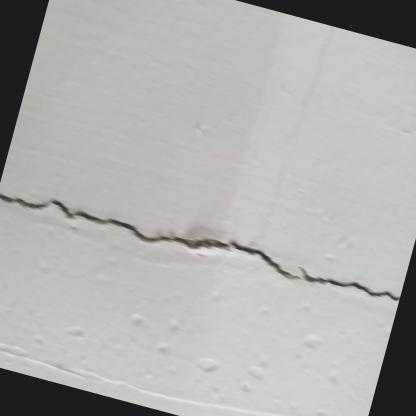crack: (0, 193, 297, 280), (298, 266, 400, 304)
